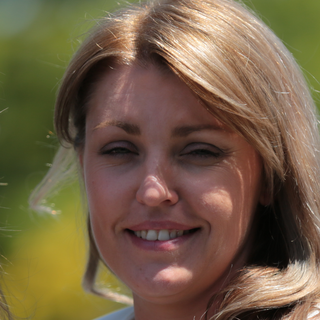eye: (176, 140, 229, 165), (95, 139, 144, 164)
